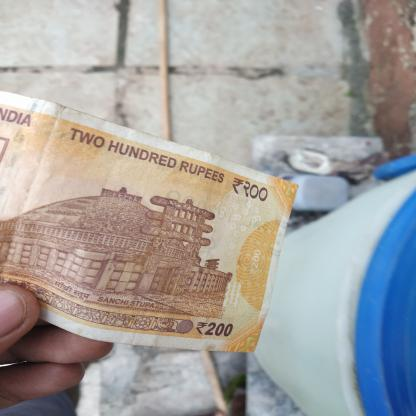New200Back: (0, 94, 263, 346)
